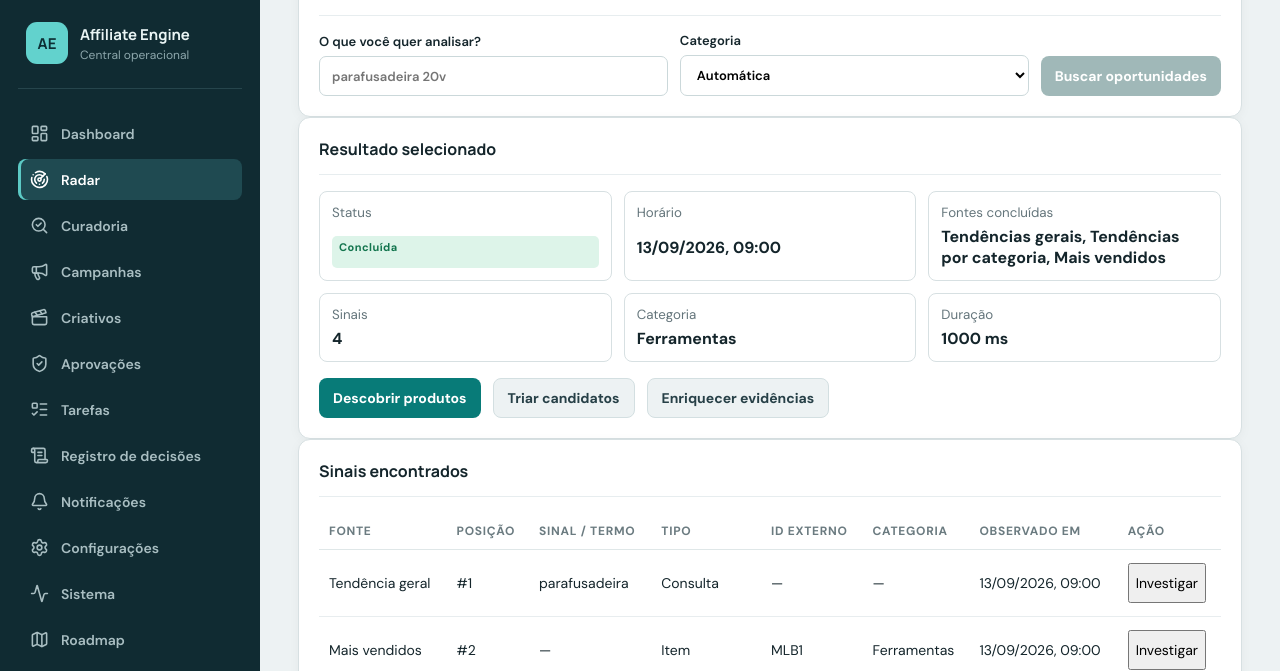
Test case: Radar › tria candidatos da execução concluída sem criar novos candidatos
The image size is (1280, 671).
(page scrolled)
Click the button "Triar candidatos". click: (564, 398)
box: [492,378,634,418]
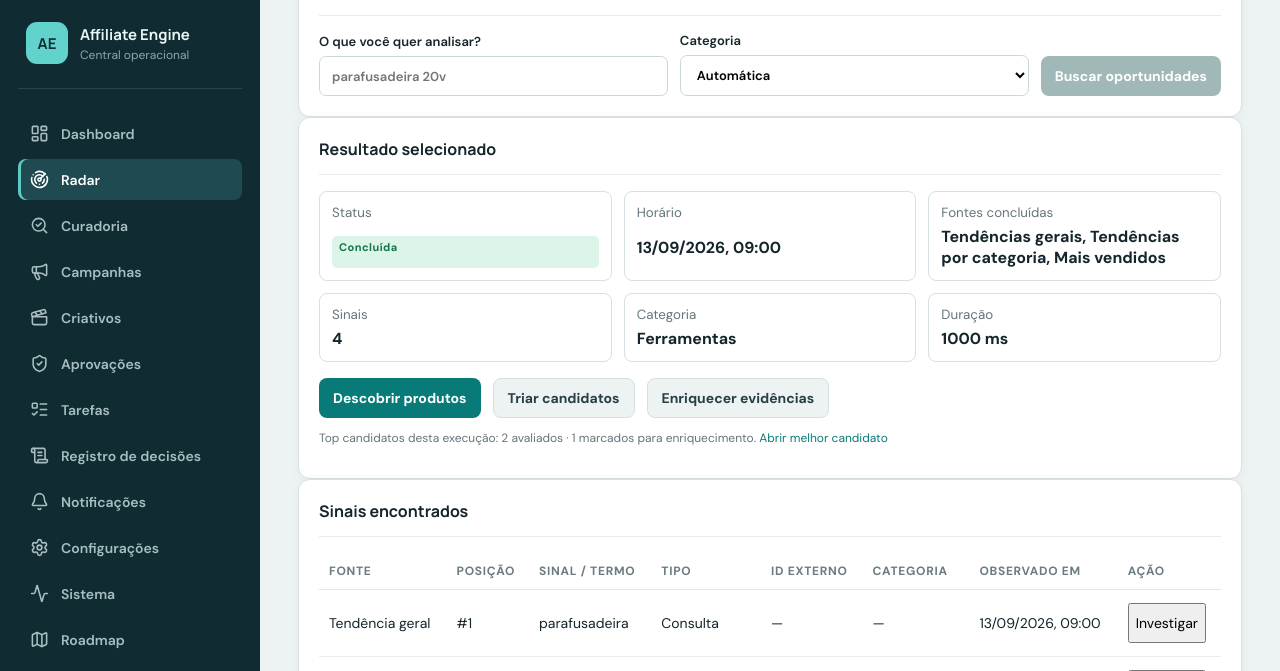
Expected: the text "Top candidatos desta execução: 2 avaliados" is shown, [319,430,888,446]
